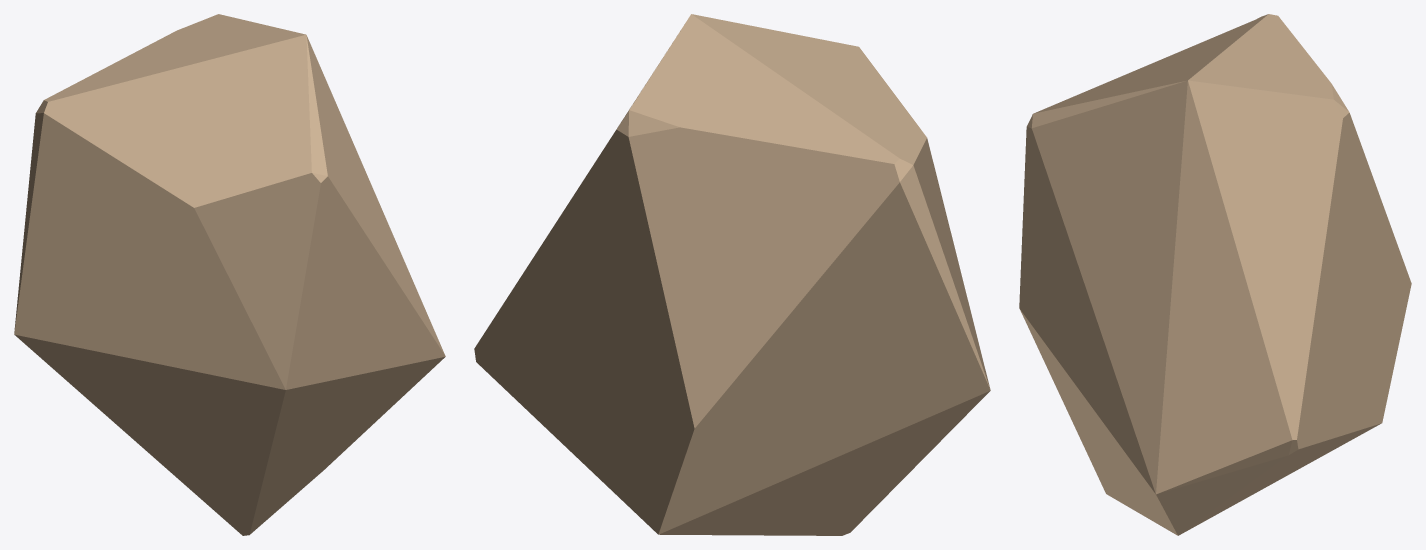
File: rock_small_01.fbx
3 renders of one model, left to right at view 1: azimuth 30°, elevation 25°; view 2: azimuth 150°, elevation 25°; view 3: azimuth 270°, elevation 25°, orthographic. The views are drawn at different scales.
Parts seen in each view (by area): view 1: rock_small_01; view 2: rock_small_01; view 3: rock_small_01.
Boxes of the visible parts, left/top/right/bottom form: rock_small_01: left=14, top=14, right=445, bottom=535; rock_small_01: left=474, top=14, right=990, bottom=535; rock_small_01: left=1019, top=14, right=1411, bottom=535.
Size of the model in its own units: 131 by 138 by 105.
